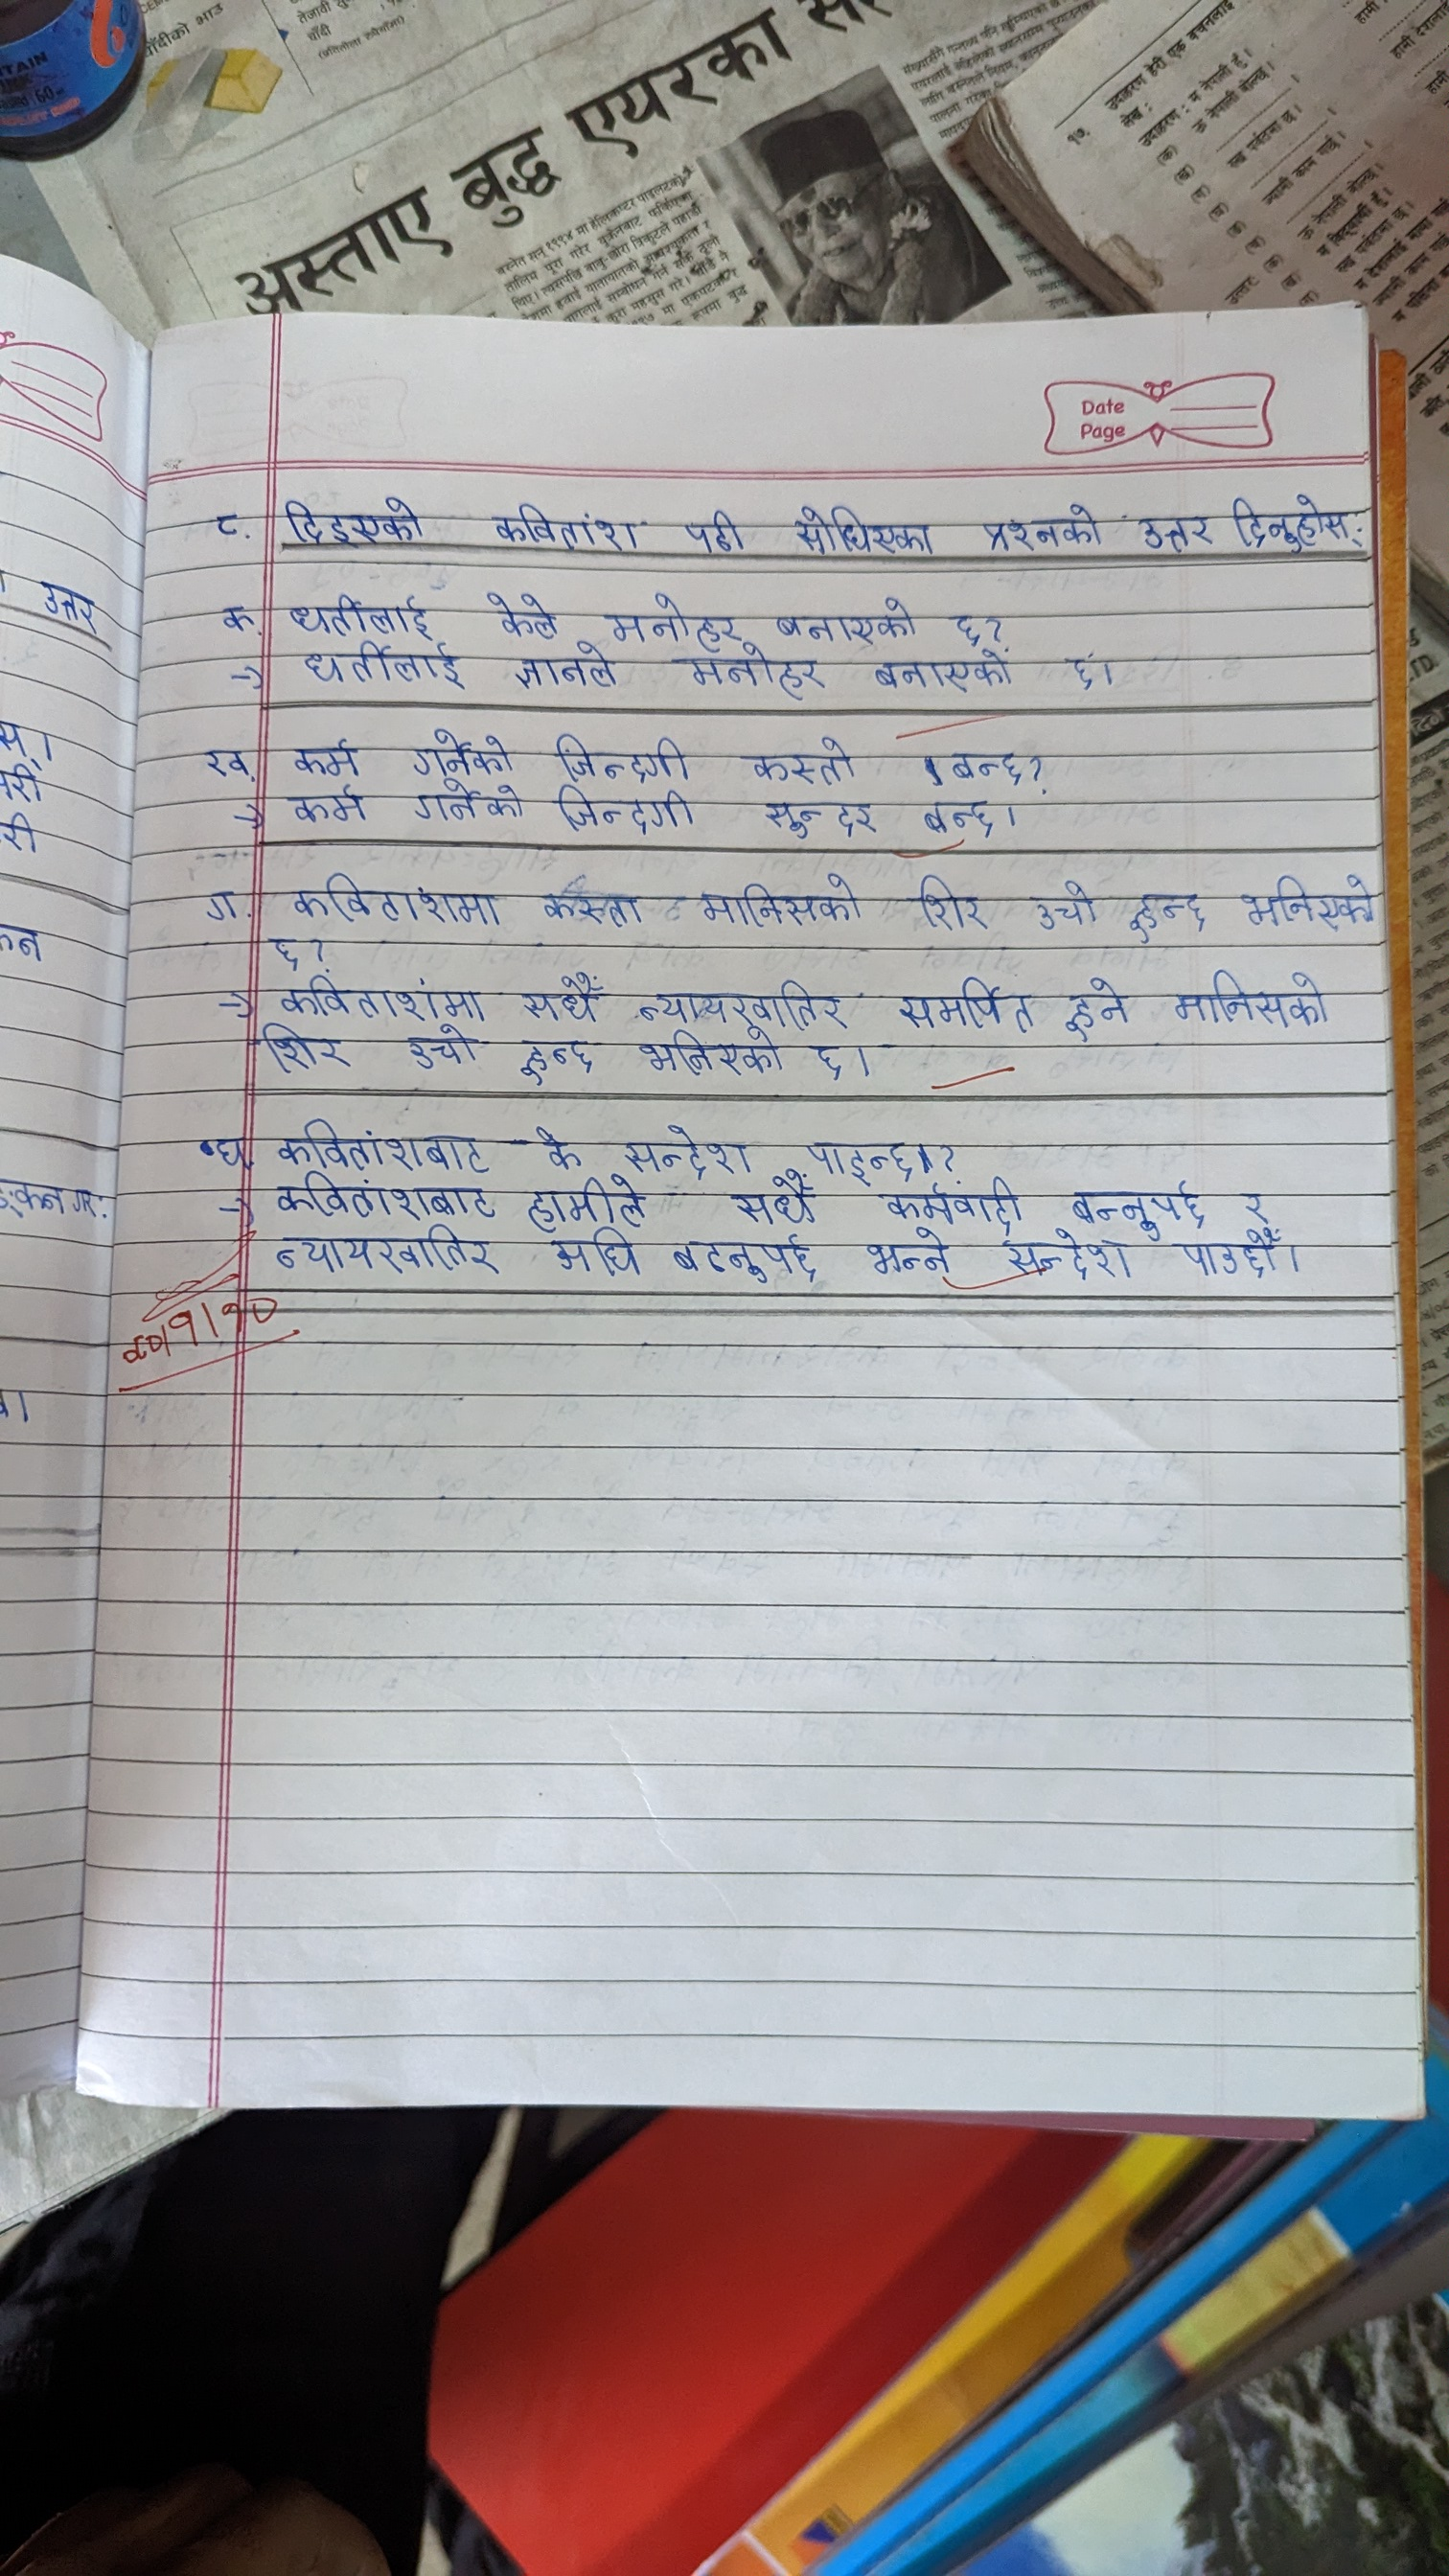text: (283, 870, 506, 927), (274, 1223, 502, 1274), (272, 1118, 490, 1171), (694, 869, 872, 927), (635, 977, 844, 1026), (272, 1171, 497, 1217), (272, 975, 495, 1021), (1169, 968, 1330, 1031), (483, 495, 649, 556), (1230, 490, 1364, 557), (1233, 870, 1376, 932), (603, 589, 759, 646), (635, 1030, 787, 1086), (770, 593, 924, 648), (552, 727, 704, 782), (278, 492, 428, 547), (789, 504, 938, 559), (674, 649, 835, 699), (299, 642, 471, 688), (899, 975, 1033, 1033), (669, 1235, 824, 1284), (1062, 1175, 1207, 1228), (283, 591, 444, 639), (550, 784, 695, 835), (621, 1123, 761, 1177), (520, 1178, 665, 1228), (971, 499, 1106, 552), (998, 1231, 1132, 1283), (1178, 1231, 1306, 1284), (867, 649, 1017, 694), (878, 1182, 1028, 1226), (409, 725, 520, 777), (858, 1228, 962, 1281), (745, 736, 860, 784), (801, 1134, 922, 1178), (731, 1180, 833, 1231), (517, 648, 628, 694), (1125, 885, 1215, 941), (761, 798, 879, 840), (257, 1023, 357, 1072), (915, 870, 991, 936), (412, 778, 522, 823), (1062, 975, 1139, 1037), (515, 970, 603, 1023), (541, 885, 646, 929), (513, 1037, 605, 1086), (481, 587, 564, 640), (552, 1231, 640, 1281), (1021, 878, 1102, 931), (941, 741, 1031, 789), (916, 796, 1010, 837), (405, 1023, 485, 1070), (283, 784, 373, 824), (527, 1120, 596, 1171), (1132, 511, 1212, 554), (288, 738, 370, 778), (679, 510, 748, 556), (810, 1039, 865, 1085), (1065, 648, 1108, 706), (202, 738, 253, 786), (211, 1129, 258, 1173), (212, 602, 258, 642), (1235, 1185, 1277, 1224), (198, 888, 249, 920), (948, 605, 984, 644), (265, 934, 303, 970), (209, 513, 246, 543)
